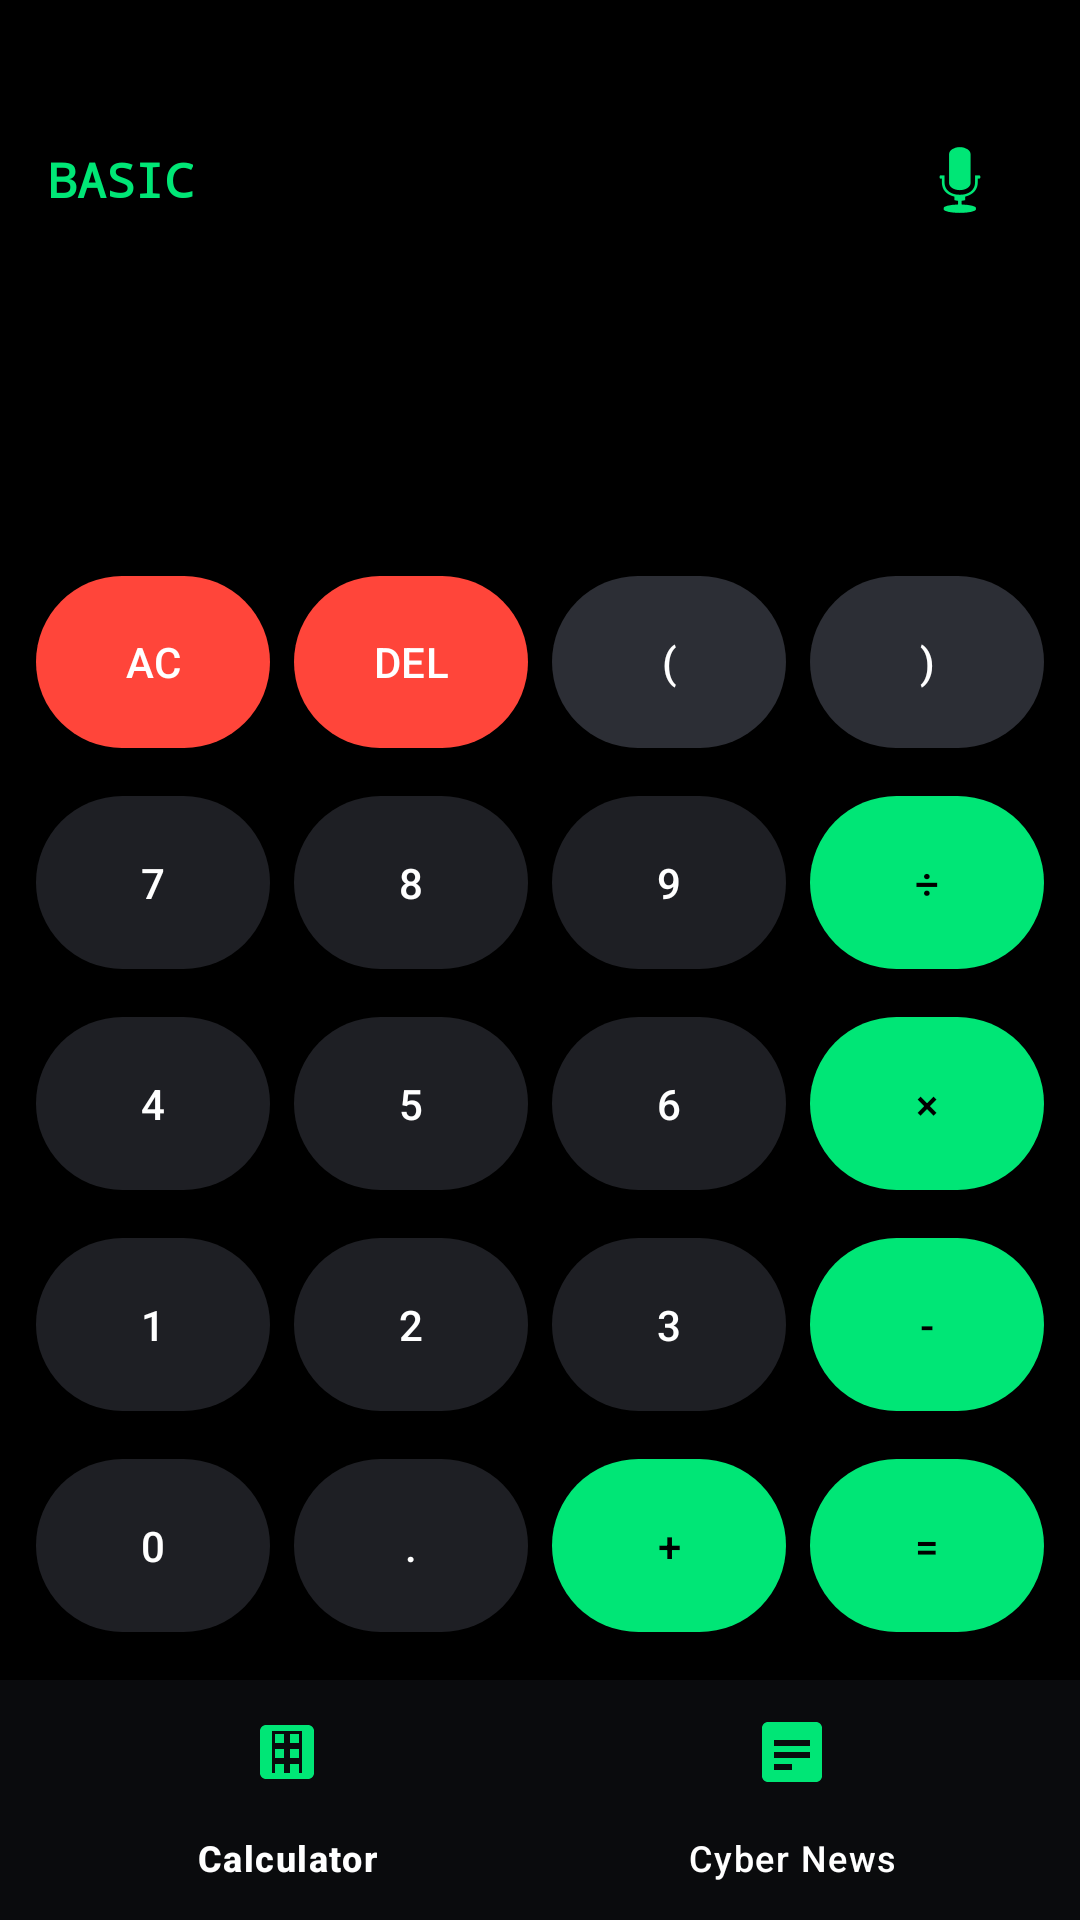

Locate icon controls on the screen. Image size 1080 x 1920, boxes as bbox=[x1, y1, x2, y2].
speak now: bbox=[939, 147, 981, 213]
